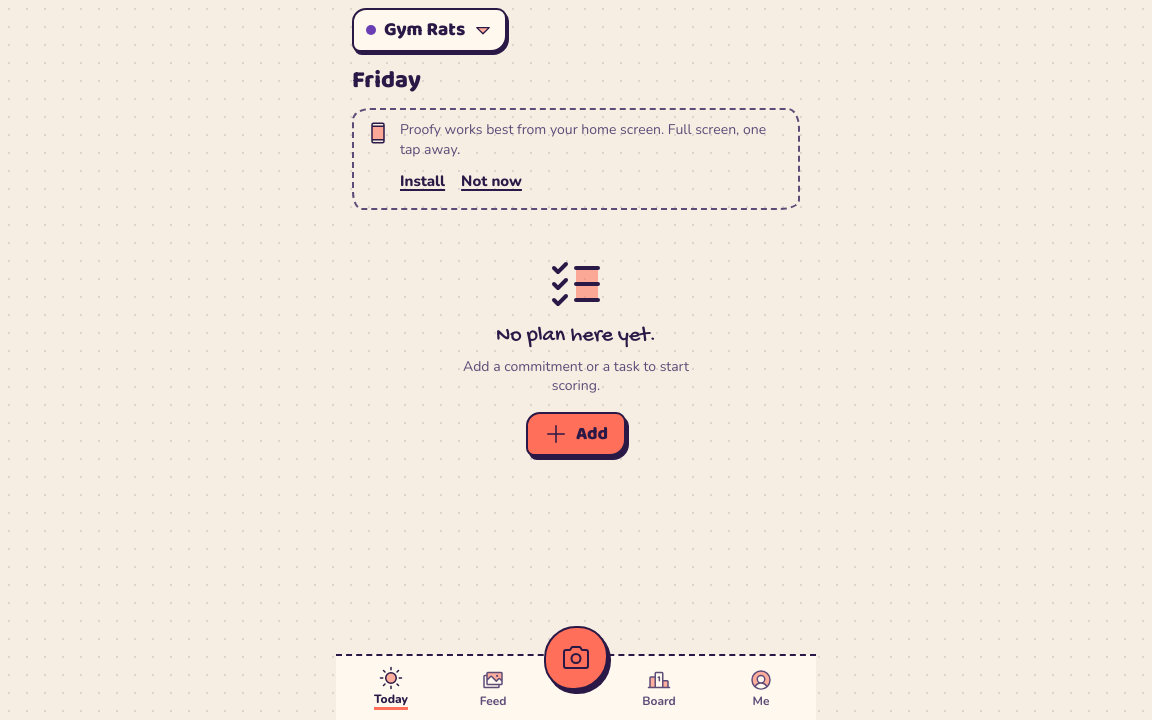
Test: bottom nav › pushes from Today, replaces between tabs, and pops back to Today without stacking
Later steps or results of the test are not shown.
Expected: the heading "Friday" is shown, [352,68,421,94]
Click the link "Feed" at {"x": 493, "y": 688}, box [480,668,506,709]
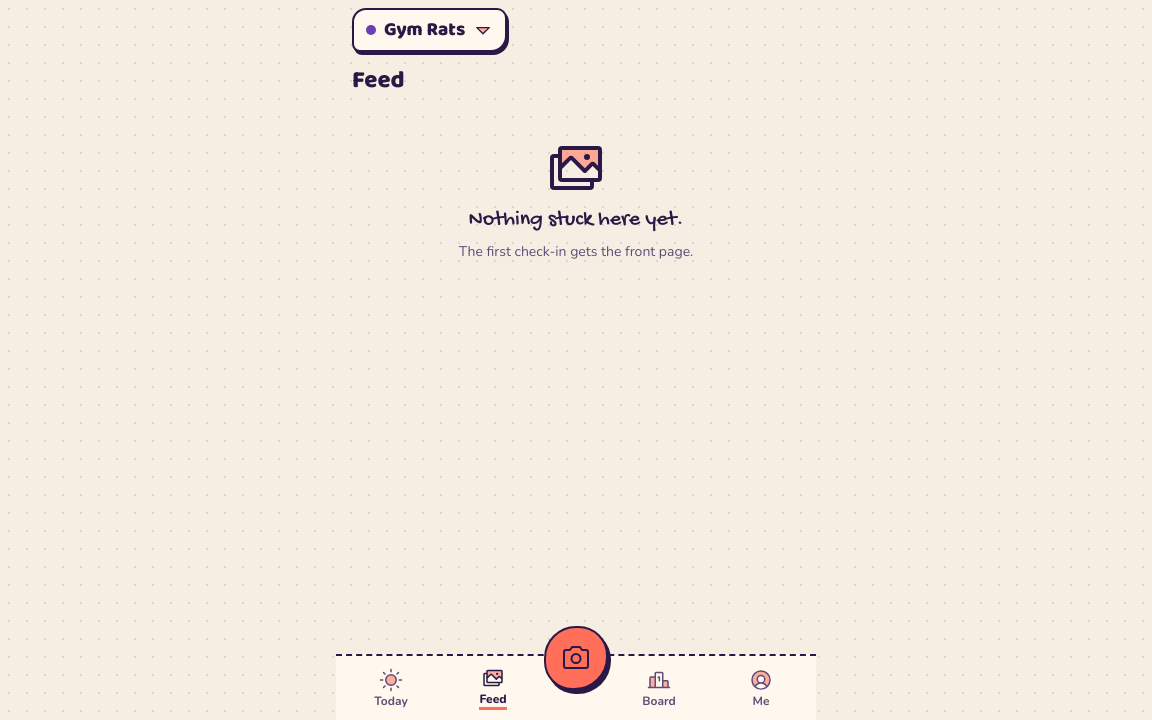
Result: the link "Feed" is marked as current at [479,666,506,710]
Result: the link "Today" does not have attribute aria-current at [374,668,408,709]
